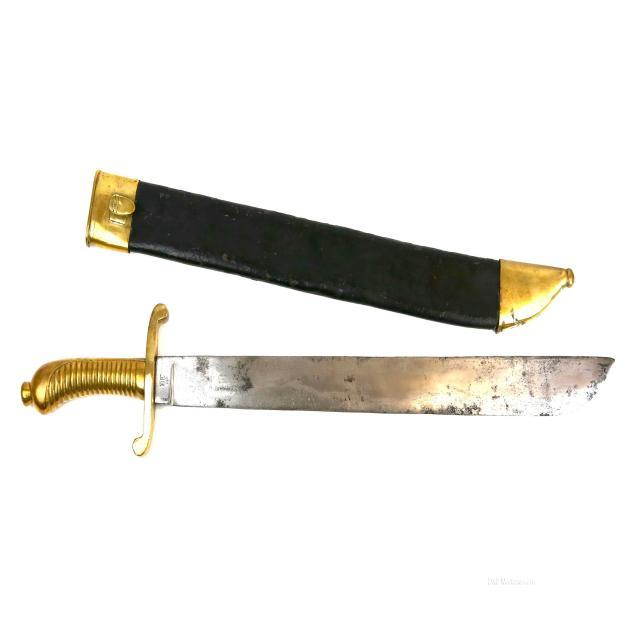short sword: (16, 149, 619, 496)
